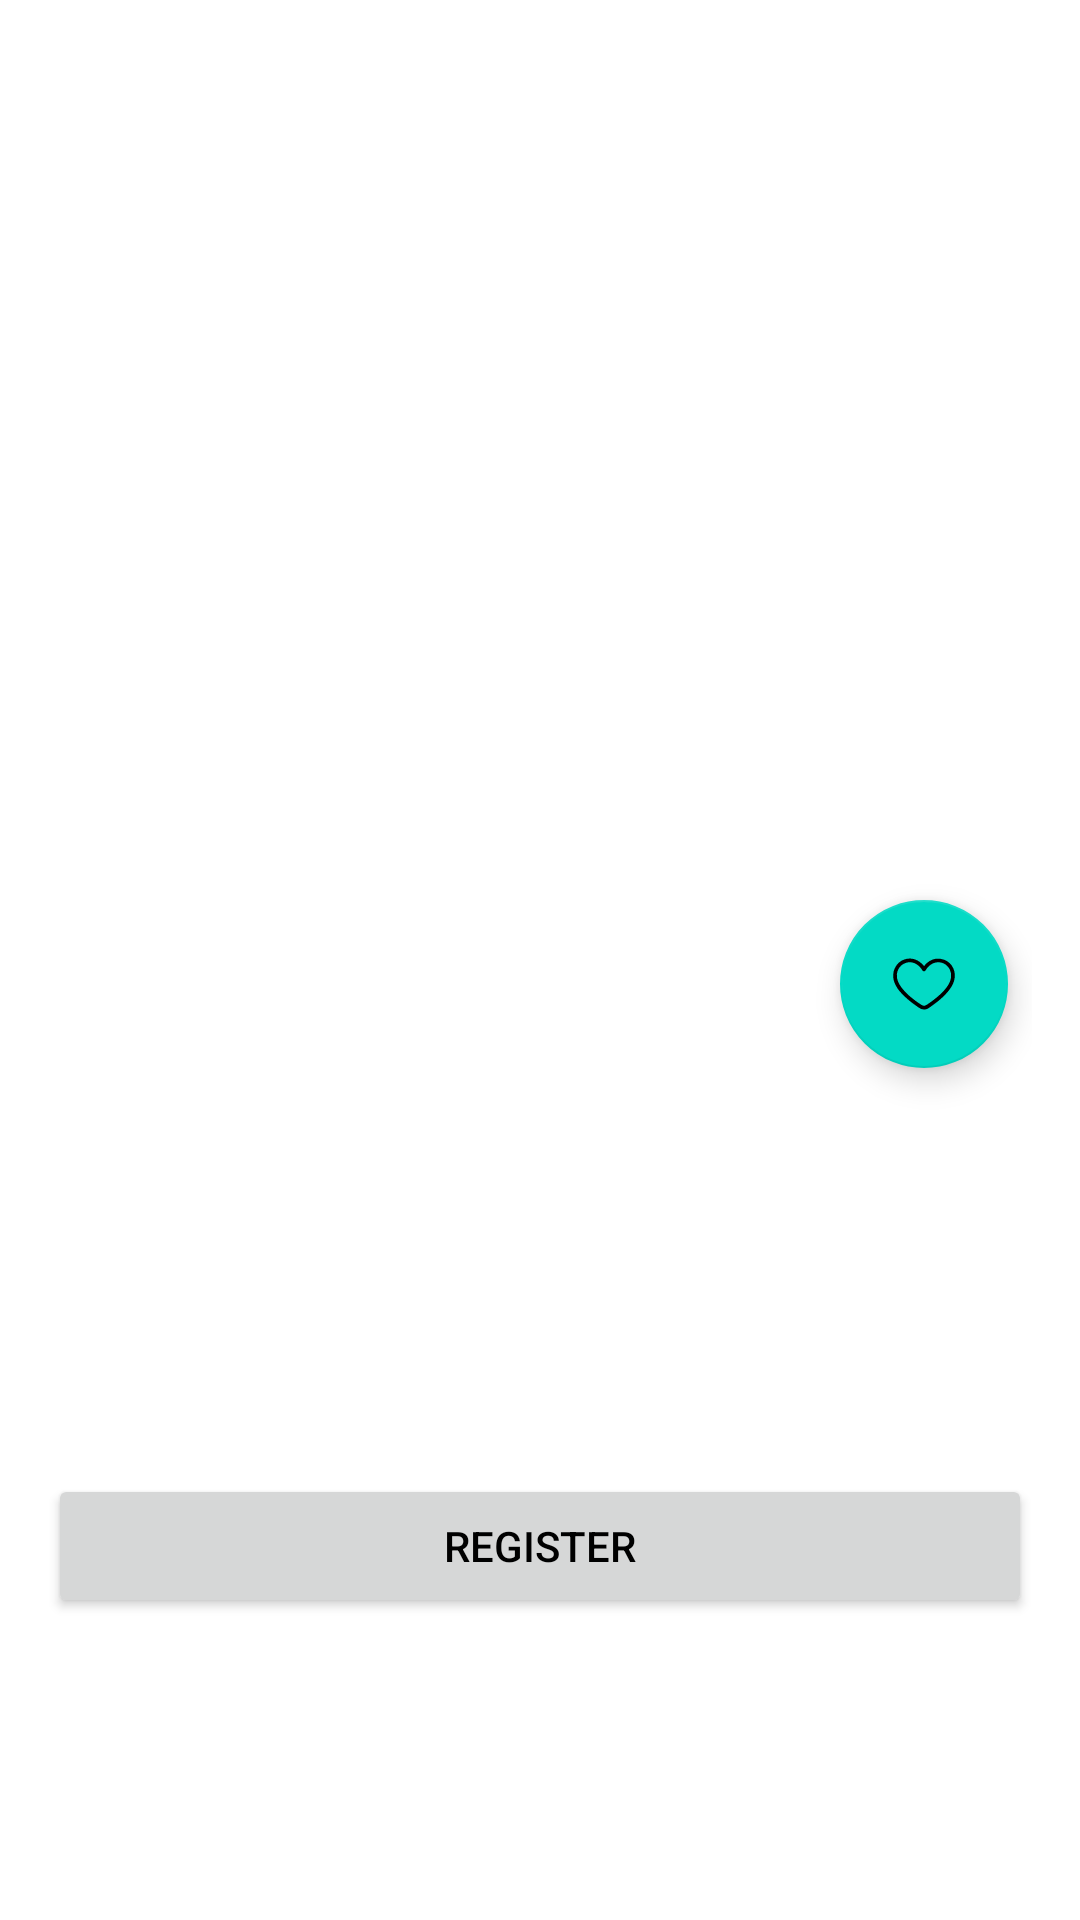

Icon bounding boxes for this 1080x1920 phone screenshot, format (x1, y1, x2, y2):
heart not full: (840, 900, 1008, 1068)
